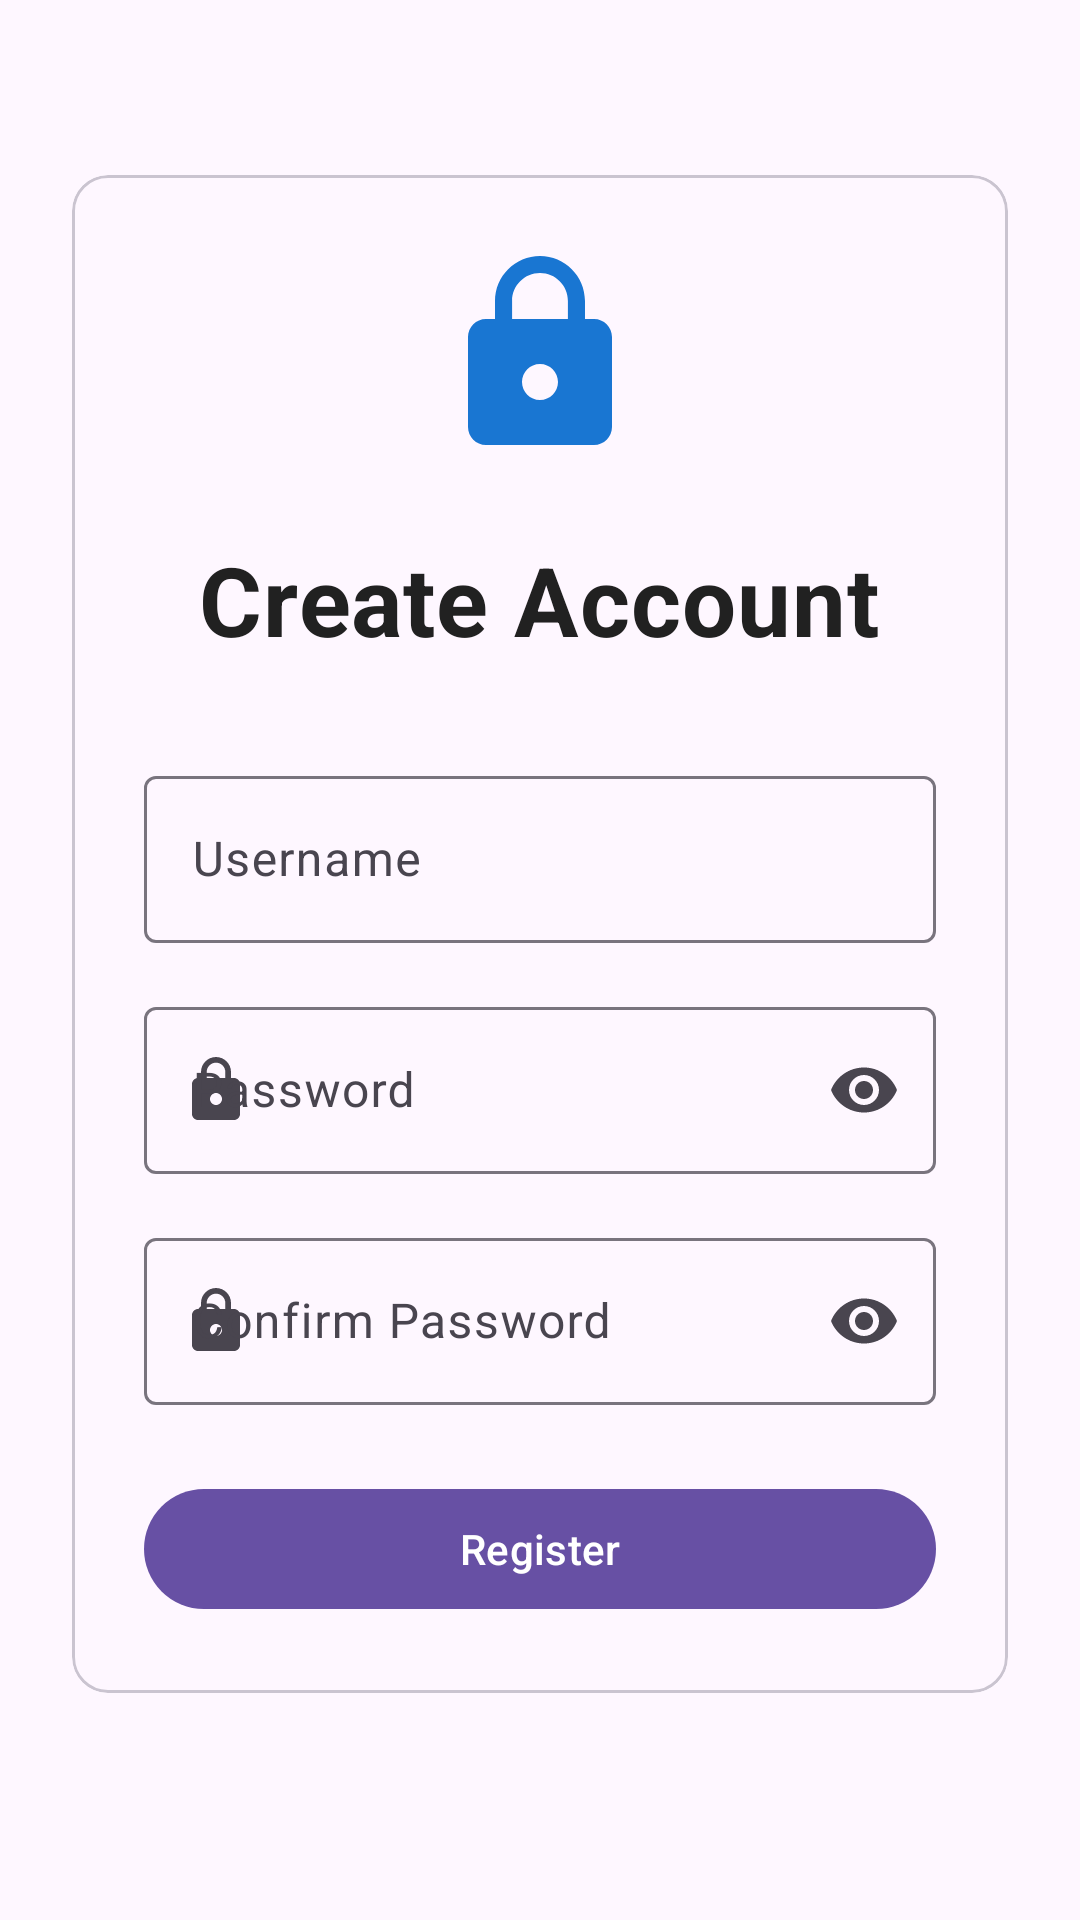

Point at icon controls on the screen. Image size 1080px x 1920px, points as point (x, y).
lock: point (540, 350)
